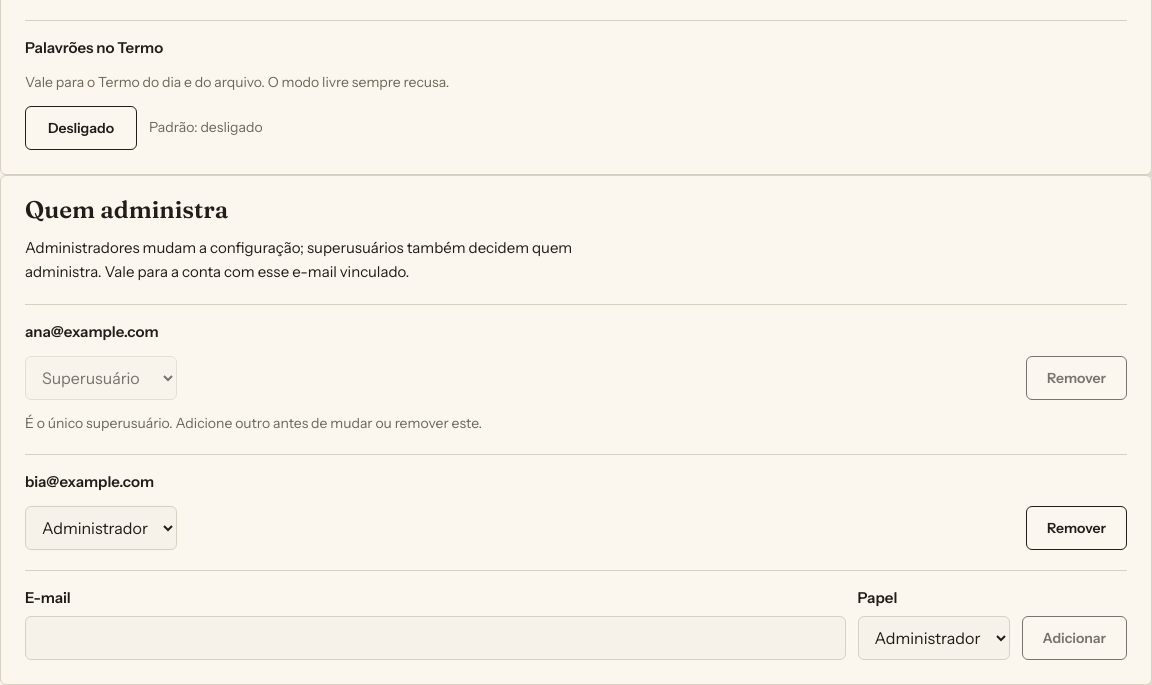
Test: a member's role changes from its select and Remover deletes it (T-WEB-S559) › a role change posts the upsert and Remover sends a DELETE, each redrawing from the answer
(page scrolled)
Select "Superusuário" in the dropdown named "Papel de bia@example.com": (101, 528) [25, 506, 177, 550]
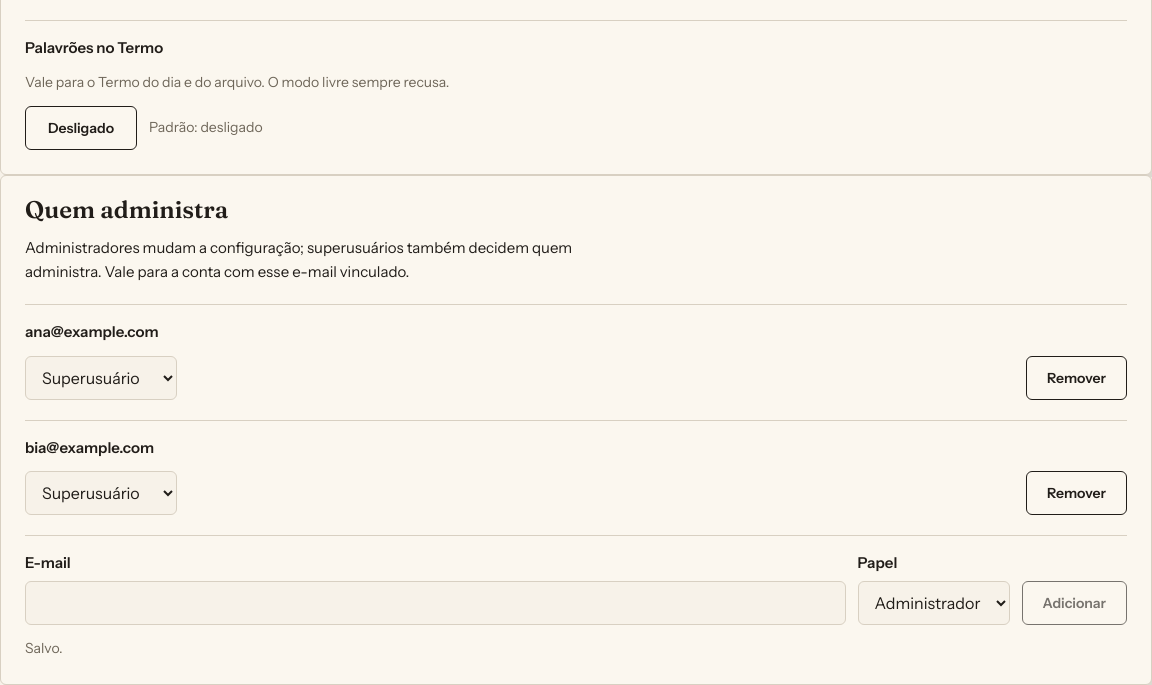
expect the text "Salvo." is shown: met, box [25, 639, 62, 657]
Click the 2nd button "Remover": (1076, 493) [1026, 471, 1127, 515]
(page scrolled)
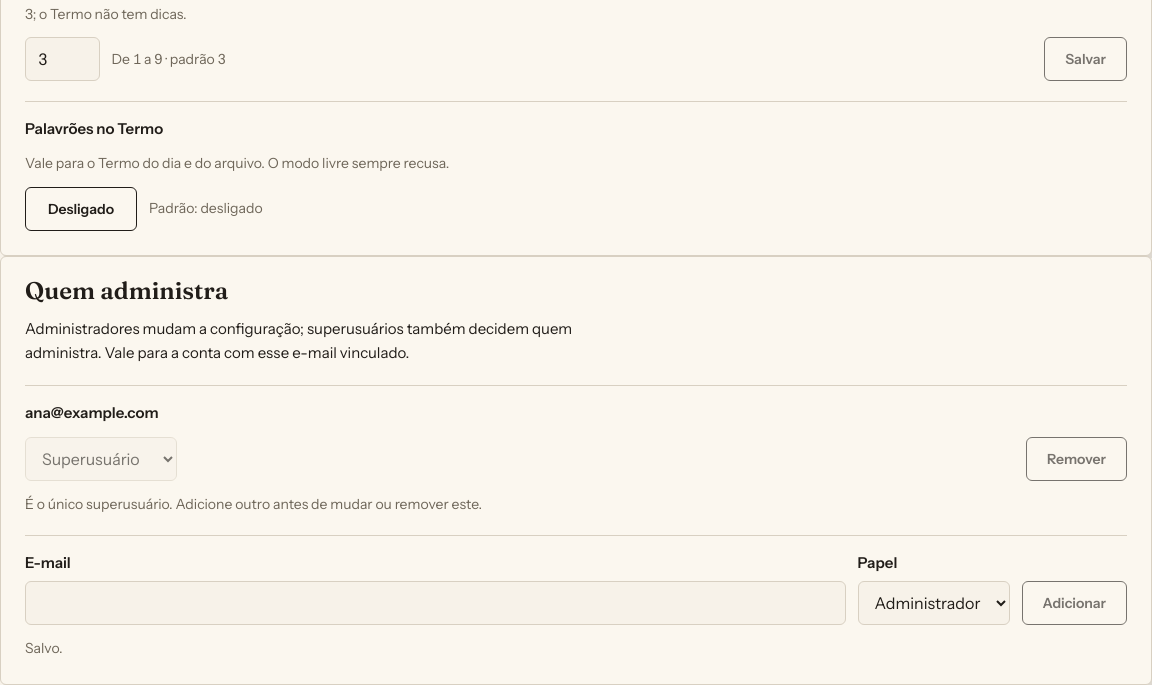
expect the text "bia@example.com" is gone: met
